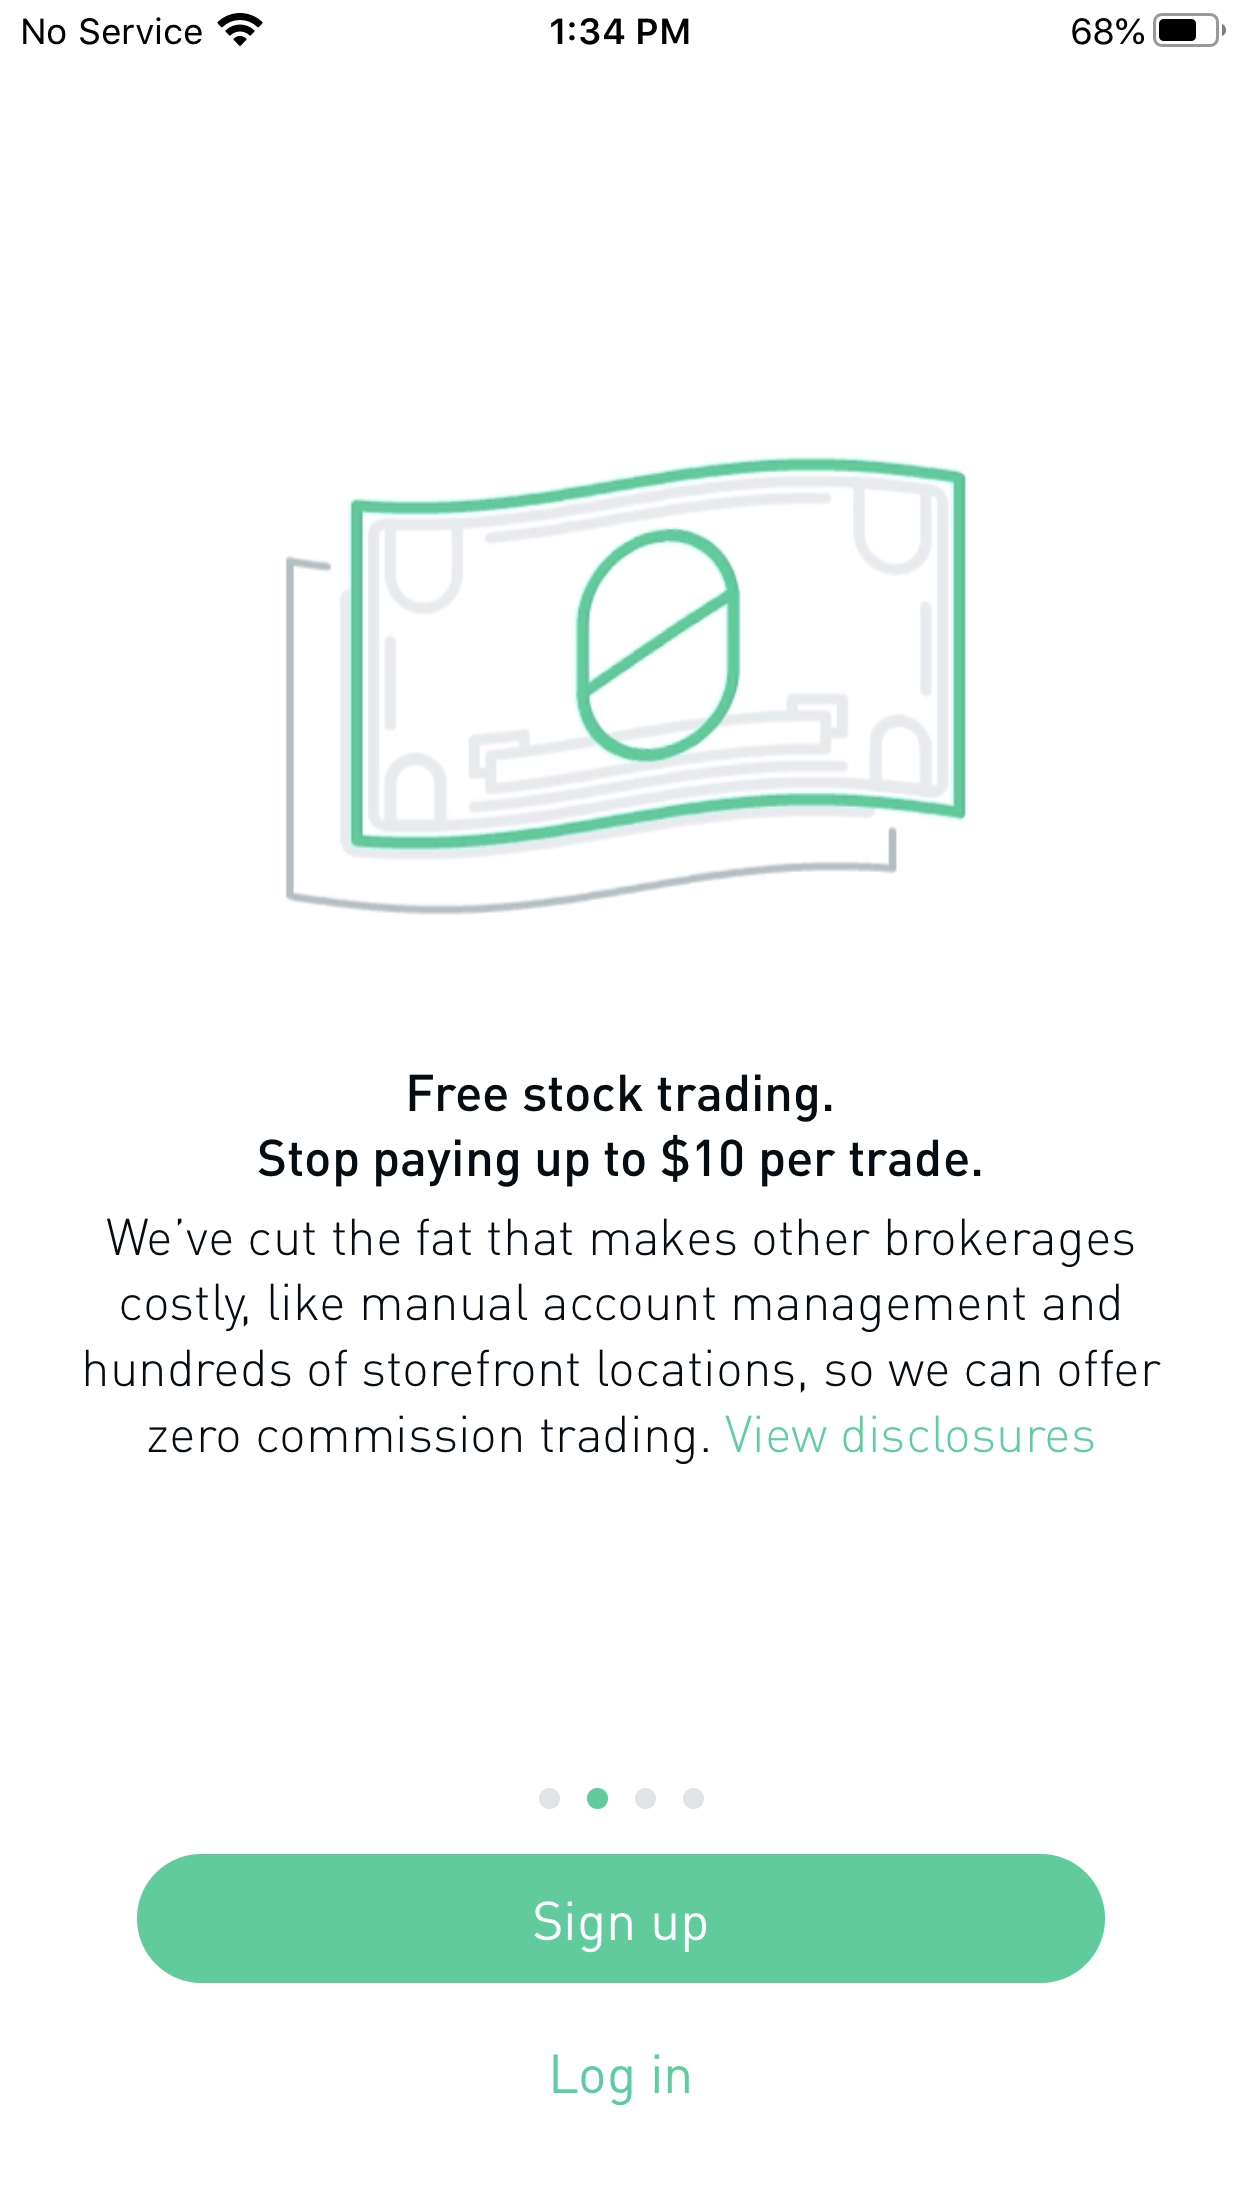Image: (287, 458, 966, 914)
PageIndicator: (538, 1788, 704, 1809)
Text: (86, 1218, 1162, 1463), (258, 1134, 981, 1187), (409, 1074, 833, 1122), (554, 2053, 688, 2105)
TextButton: (136, 1853, 1106, 1984)
UpperTaskBar: (2, 2, 1242, 49)
